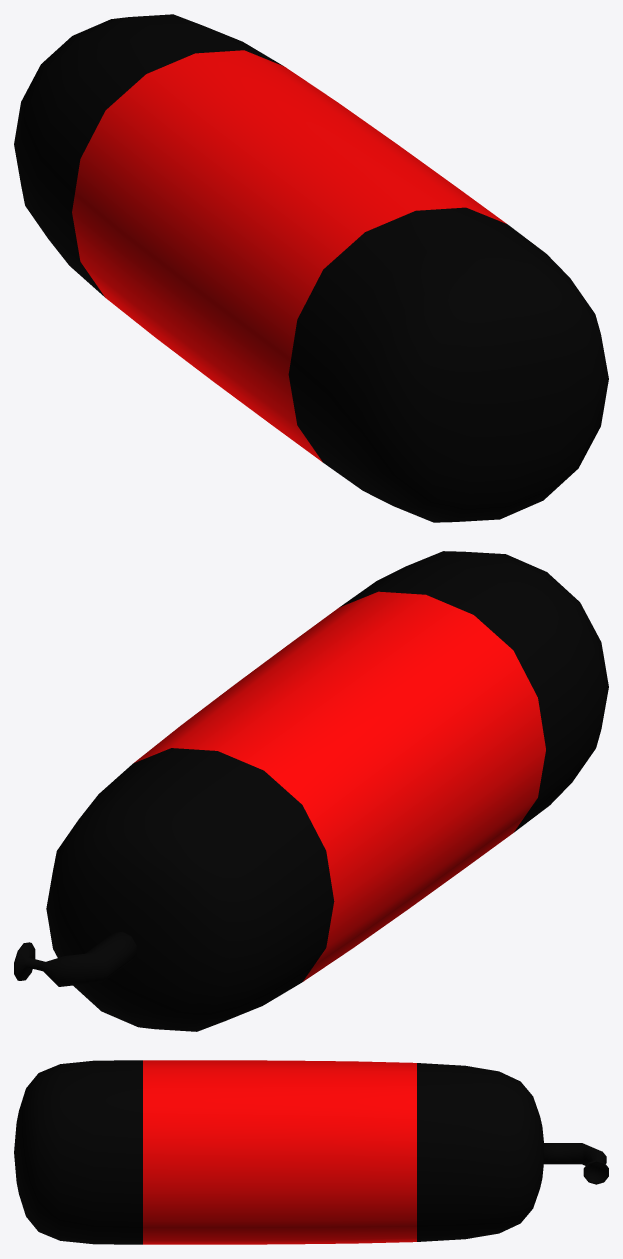
Rendered from item-tank-large.glb.
3 renders of one model, top to bottom at view 1: azimuth 30°, elevation 25°; view 2: azimuth 150°, elevation 25°; view 3: azimuth 270°, elevation 25°, orthographic. The views are drawn at different scales.
Size of the model in its own units: 16.65 by 16.65 by 54.36.
